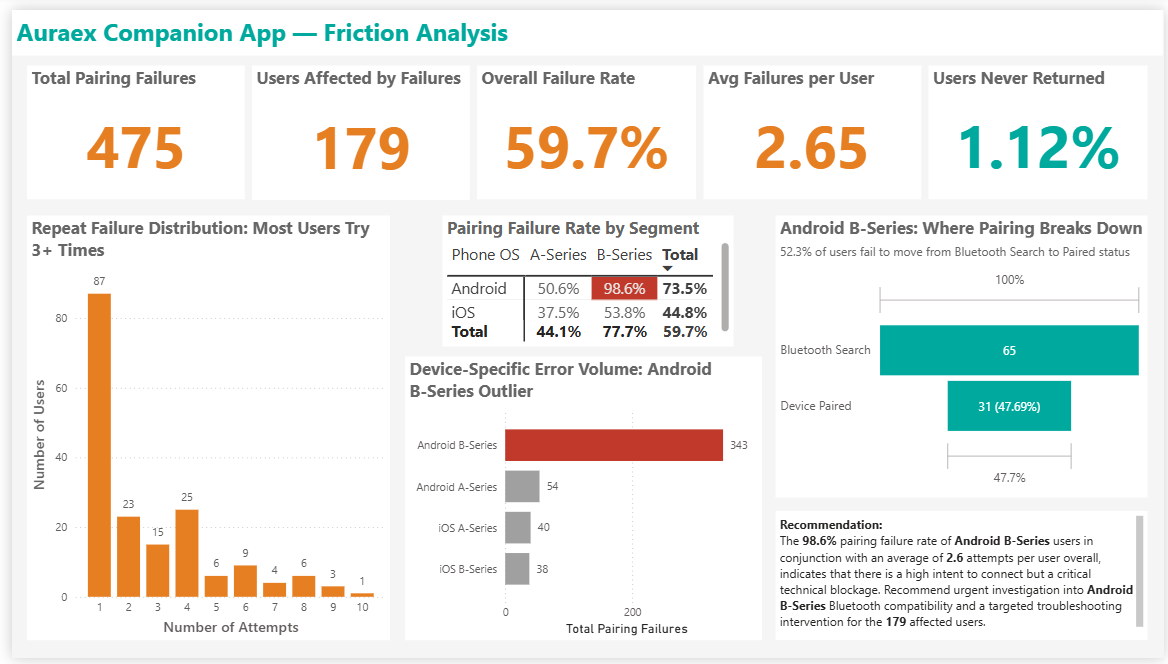

What the dashboard file says about the page in this screenshot:
{"tool":"powerbi","page":{"name":"Friction Analysis","canvas":[1280,720],"ordinal":1},"visuals":[{"type":"textbox","box":[0,0,1278.9,50.9],"z":0},{"type":"cardVisual","title":"Total Pairing Failures","fields":{"Data":["app_event_logs.Total Pairing Failures"]},"box":[17.2,60.9,242,148.3],"z":1000},{"type":"cardVisual","title":"Users Affected by Failures","fields":{"Data":["app_event_logs.Users Affected By Failures"]},"box":[267.2,60.9,242,149.3],"z":2000},{"type":"cardVisual","title":"Overall Failure Rate ","fields":{"Data":["app_event_logs.Overall Failure Rate"]},"box":[517.3,60.9,243.3,148.3],"z":3000},{"type":"cardVisual","title":"Users Never Returned","fields":{"Data":["app_event_logs.Never Returned Percent"]},"box":[1018.3,60.9,243.3,148.3],"z":4000},{"type":"cardVisual","title":"Avg Failures per User","fields":{"Data":["app_event_logs.Avg Failures Per User"]},"box":[768.6,60.9,241.7,148.3],"z":5000},{"type":"clusteredColumnChart","title":"Repeat Failure Distribution: Most Users Try 3+ Times","fields":{"Category":["failures_per_user.failure_count"],"Y":["CountNonNull(failures_per_user.user_id)"]},"box":[16.7,228.3,403.3,471.7],"z":6000},{"type":"pivotTable","title":"Pairing Failure Rate by Segment","fields":{"Rows":["app_event_logs.phone_os"],"Columns":["app_event_logs.hearing_aid_model"],"Values":["app_event_logs.Overall Failure Rate"]},"box":[478.3,228.3,323.3,145],"z":7000},{"type":"clusteredBarChart","title":"Device-Specific Error Volume: Android B-Series Outlier","fields":{"Category":["app_event_logs.device_os_model"],"Y":["app_event_logs.Total Pairing Failures"]},"box":[436.7,385,396.7,315],"z":8000},{"type":"funnel","title":"Android B-Series: Where Pairing Breaks Down","fields":{"Category":["app_event_logs.event_name"],"Y":["app_event_logs.Total Users"]},"box":[848.3,228.3,413.3,313],"z":9000},{"type":"textbox","box":[848.3,556.7,413.3,143.3],"z":10000}]}

Visuals, with their boxes in screenshot pixels (x1, y1, x2, y2), scaled from the page's 1280x720 canvas onto the 1168x664 screenshot:
textbox: <box>0,0,1167,47</box>
"Total Pairing Failures" cardVisual: <box>16,56,237,193</box>
"Users Affected by Failures" cardVisual: <box>244,56,465,194</box>
"Overall Failure Rate " cardVisual: <box>472,56,694,193</box>
"Users Never Returned" cardVisual: <box>929,56,1151,193</box>
"Avg Failures per User" cardVisual: <box>701,56,922,193</box>
"Repeat Failure Distribution: Most Users Try 3+ Times" clusteredColumnChart: <box>15,211,383,646</box>
"Pairing Failure Rate by Segment" pivotTable: <box>436,211,731,344</box>
"Device-Specific Error Volume: Android B-Series Outlier" clusteredBarChart: <box>398,355,760,646</box>
"Android B-Series: Where Pairing Breaks Down" funnel: <box>774,211,1151,499</box>
textbox: <box>774,513,1151,646</box>
